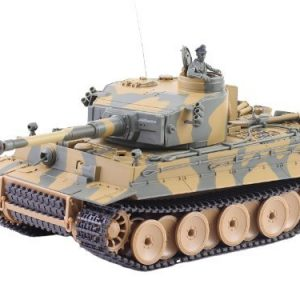Battle Tank: (1, 72, 299, 273)
